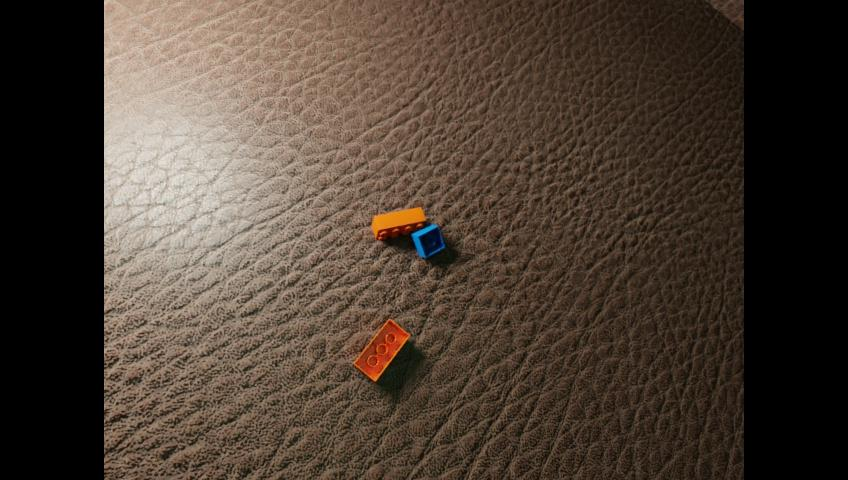2x2_blue: (411, 223, 444, 257)
4x2_orange: (352, 318, 409, 381), (373, 206, 424, 239)
